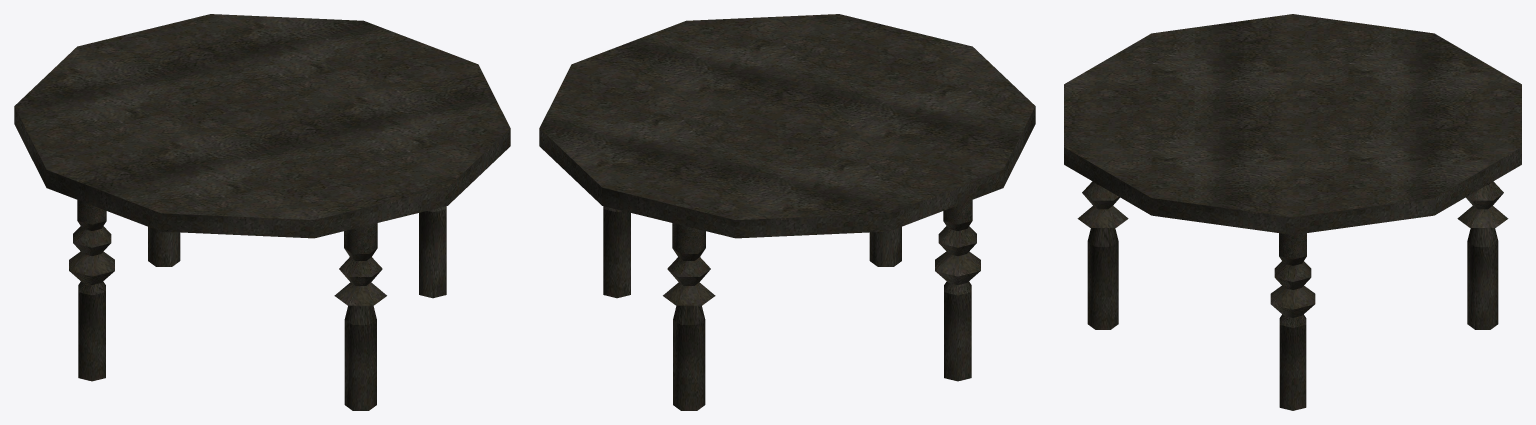
Rendered from frn_tato_table_small_s01_l0.fbx.
The picture shows the model from 3 angles, left to right: view 1: azimuth 30°, elevation 25°; view 2: azimuth 150°, elevation 25°; view 3: azimuth 270°, elevation 25°; orthographic projection. The views are drawn at different scales.
Visible parts, largest first — view 1: mesh_node; view 2: mesh_node; view 3: mesh_node.
Boxes of the visible parts, x1=… form: mesh_node: x1=14, y1=14, x2=510, y2=410; mesh_node: x1=539, y1=14, x2=1035, y2=410; mesh_node: x1=1064, y1=14, x2=1521, y2=410.
Bounding box in the file's own units: 1.3 × 0.6233 × 1.24.
Materials: 1 (1 with a texture image).
